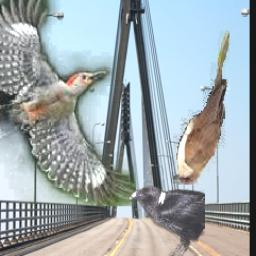Crow: (129, 185, 205, 256)
Cuckoo: (172, 31, 229, 186)
Woodpecker: (0, 0, 136, 207)
